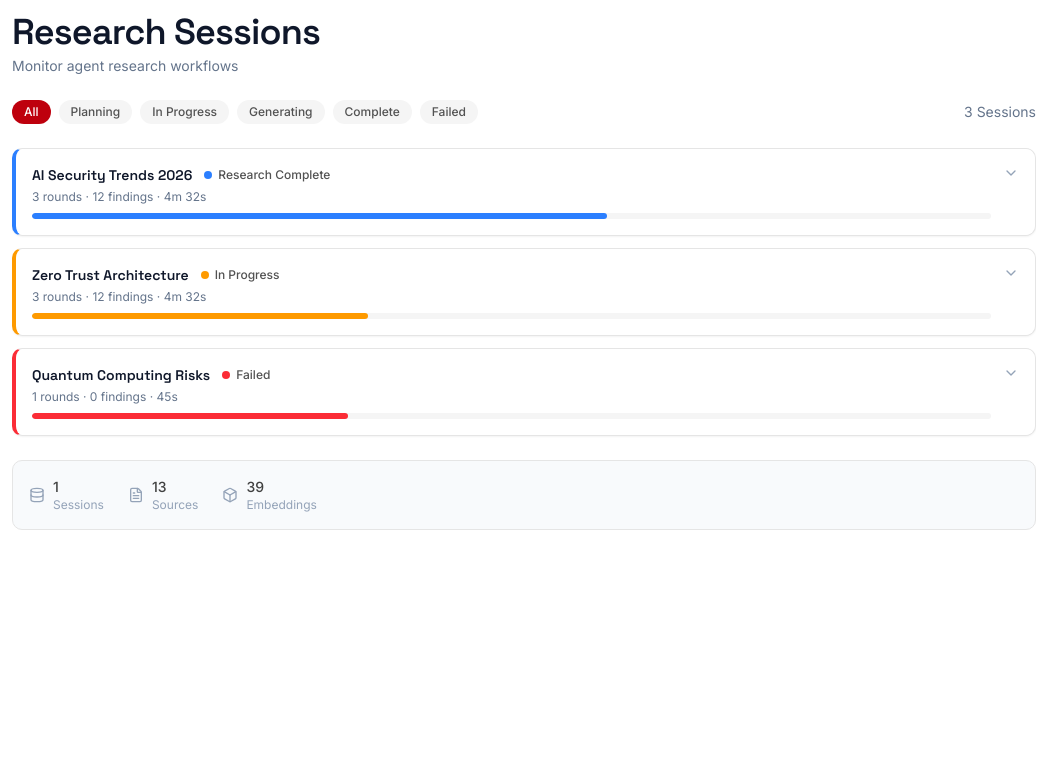
ResearchPage › collapses expanded card on second click
Click the heading "AI Security Trends 2026" at (112,175), box [32,165,192,185]
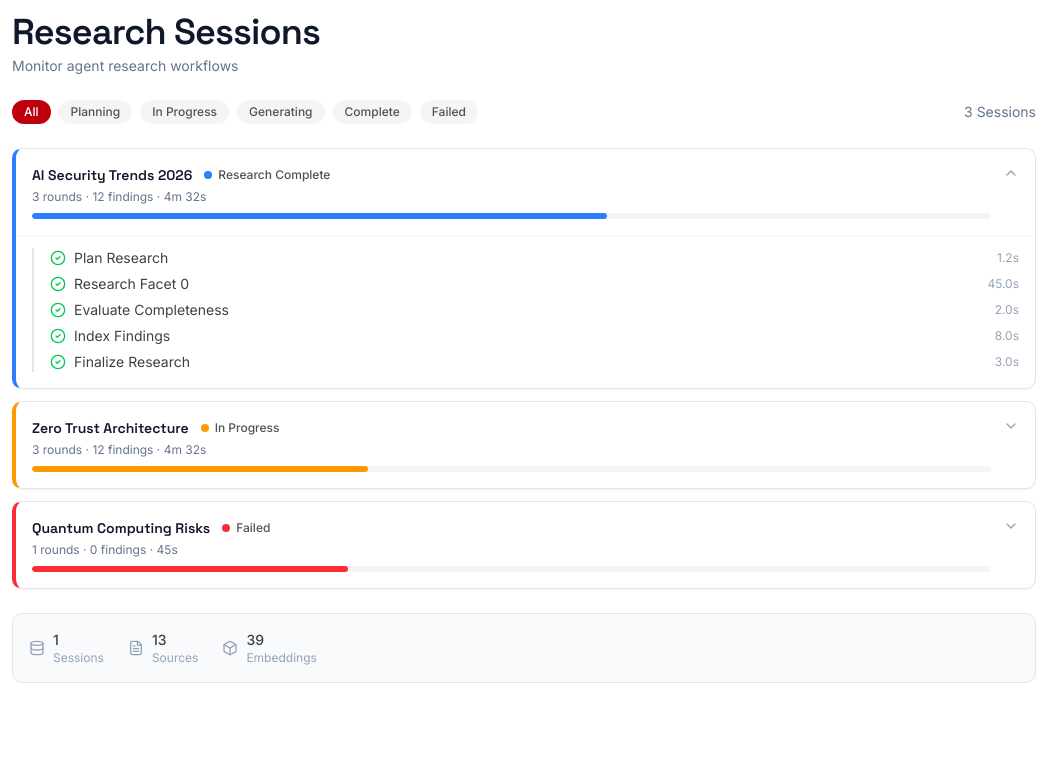
Now the text "Plan Research" is shown, box [74,248,168,268]
Click the heading "AI Security Trends 2026" at (112,175), box [32,165,192,185]
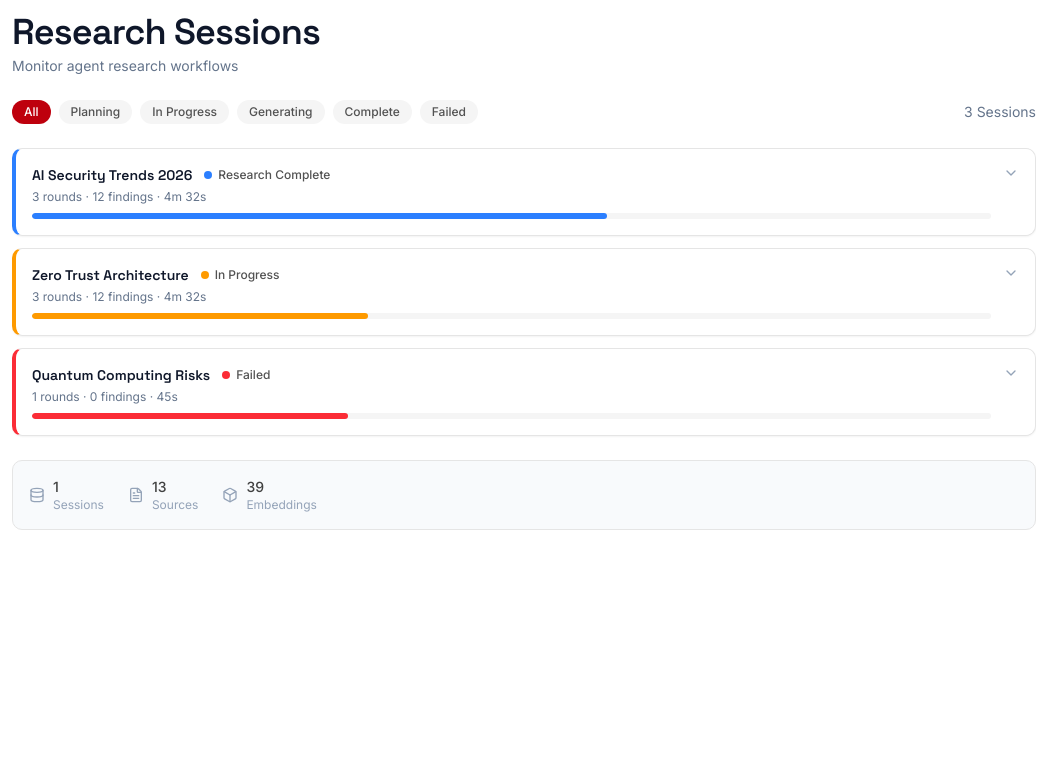
Now the text "Plan Research" is gone
